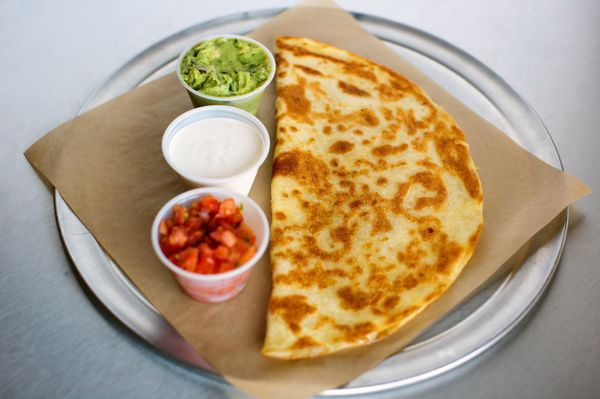sushi: (151, 187, 271, 305), (161, 105, 270, 198), (177, 35, 277, 126)
